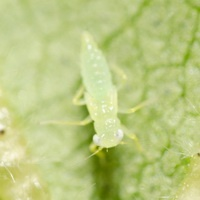insect: (43, 31, 142, 157)
